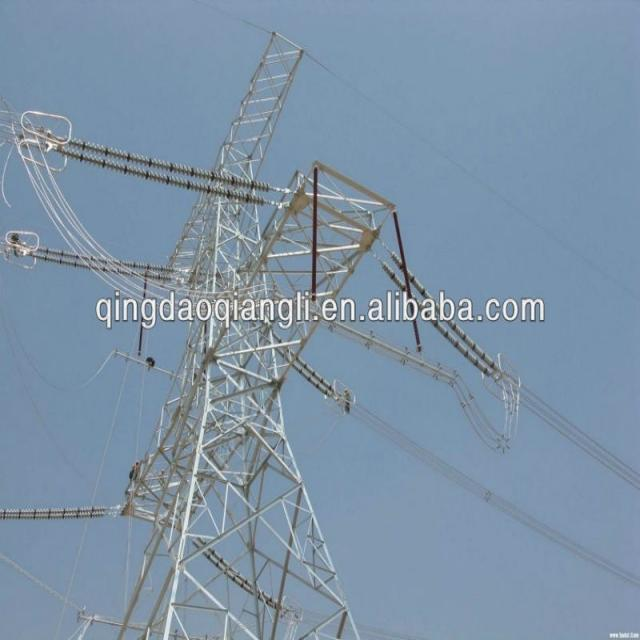non-critical vegetation: (78, 152, 436, 618)
